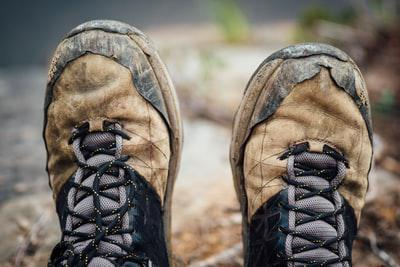vest: (41, 19, 186, 266), (229, 42, 375, 266)
